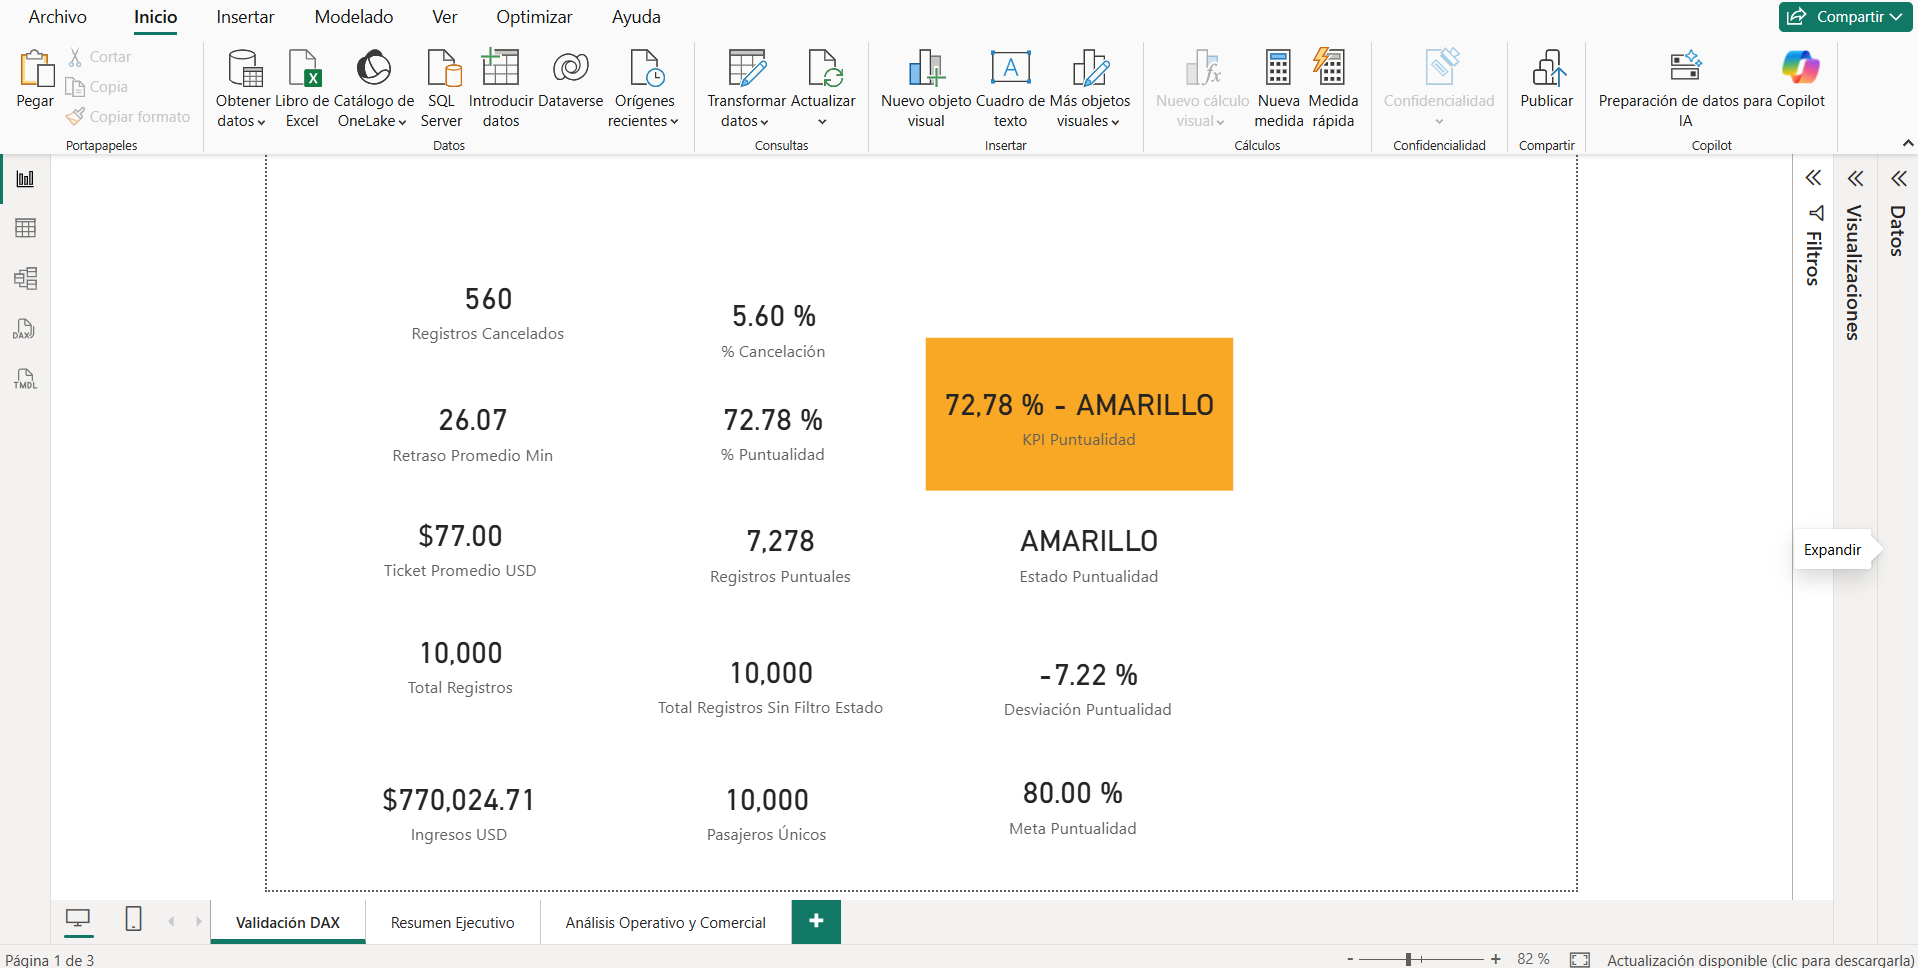

This screenshot's page, from the dashboard's own definition file:
{"tool":"powerbi","page":{"name":"Validación DAX","canvas":[1280,720],"ordinal":0},"visuals":[{"type":"card","fields":{"Values":["00 Medidas.Total Registros"]},"box":[39.3,435.7,300.4,122.7],"z":0},{"type":"card","fields":{"Values":["00 Medidas.Ingresos USD"]},"box":[37.7,586.7,300.4,107],"z":1000},{"type":"card","fields":{"Values":["00 Medidas.Ticket Promedio USD"]},"box":[39.3,328.7,300.4,107],"z":2000},{"type":"card","fields":{"Values":["00 Medidas.Retraso Promedio Min"]},"box":[51.9,210.8,300.4,118],"z":3000},{"type":"card","fields":{"Values":["00 Medidas.Pasajeros Únicos"]},"box":[338.2,586.7,300.4,107],"z":4000},{"type":"card","fields":{"Values":["00 Medidas.Total Registros Sin Filtro Estado"]},"box":[352.3,462.4,281.5,108.5],"z":5000},{"type":"card","fields":{"Values":["00 Medidas.Registros Puntuales"]},"box":[352.3,313,300.4,149.4],"z":6000},{"type":"card","fields":{"Values":["00 Medidas.% Puntualidad"]},"box":[344.5,195,300.4,149.4],"z":7000},{"type":"card","fields":{"Values":["00 Medidas.Registros Cancelados"]},"box":[66.1,75.5,300.4,149.4],"z":8000},{"type":"card","fields":{"Values":["00 Medidas.% Cancelación"]},"box":[357,92.8,276.8,149.4],"z":9000},{"type":"card","fields":{"Values":["00 Medidas.Meta Puntualidad"]},"box":[638.6,558.4,300.4,151],"z":10000},{"type":"card","fields":{"Values":["00 Medidas.Desviación Puntualidad"]},"box":[652.7,443.6,300.4,149.4],"z":11000},{"type":"card","fields":{"Values":["00 Medidas.Estado Puntualidad"]},"box":[654.3,313,300.4,149.4],"z":12000},{"type":"card","fields":{"Values":["00 Medidas.KPI Puntualidad"]},"box":[644.9,179.3,300.4,149.4],"z":13000}]}

Visuals, with their boxes on the page's 1280x720 design canvas (x1, y1, x2, y2). These are canvas units, not pixel positions in the 1918x968 screenshot, which may show the page scaled, cropped or inside an application window:
card - 00 Medidas.Total Registros: <box>39,436,340,558</box>
card - 00 Medidas.Ingresos USD: <box>38,587,338,694</box>
card - 00 Medidas.Ticket Promedio USD: <box>39,329,340,436</box>
card - 00 Medidas.Retraso Promedio Min: <box>52,211,352,329</box>
card - 00 Medidas.Pasajeros Únicos: <box>338,587,639,694</box>
card - 00 Medidas.Total Registros Sin Filtro Estado: <box>352,462,634,571</box>
card - 00 Medidas.Registros Puntuales: <box>352,313,653,462</box>
card - 00 Medidas.% Puntualidad: <box>344,195,645,344</box>
card - 00 Medidas.Registros Cancelados: <box>66,76,366,225</box>
card - 00 Medidas.% Cancelación: <box>357,93,634,242</box>
card - 00 Medidas.Meta Puntualidad: <box>639,558,939,709</box>
card - 00 Medidas.Desviación Puntualidad: <box>653,444,953,593</box>
card - 00 Medidas.Estado Puntualidad: <box>654,313,955,462</box>
card - 00 Medidas.KPI Puntualidad: <box>645,179,945,329</box>
